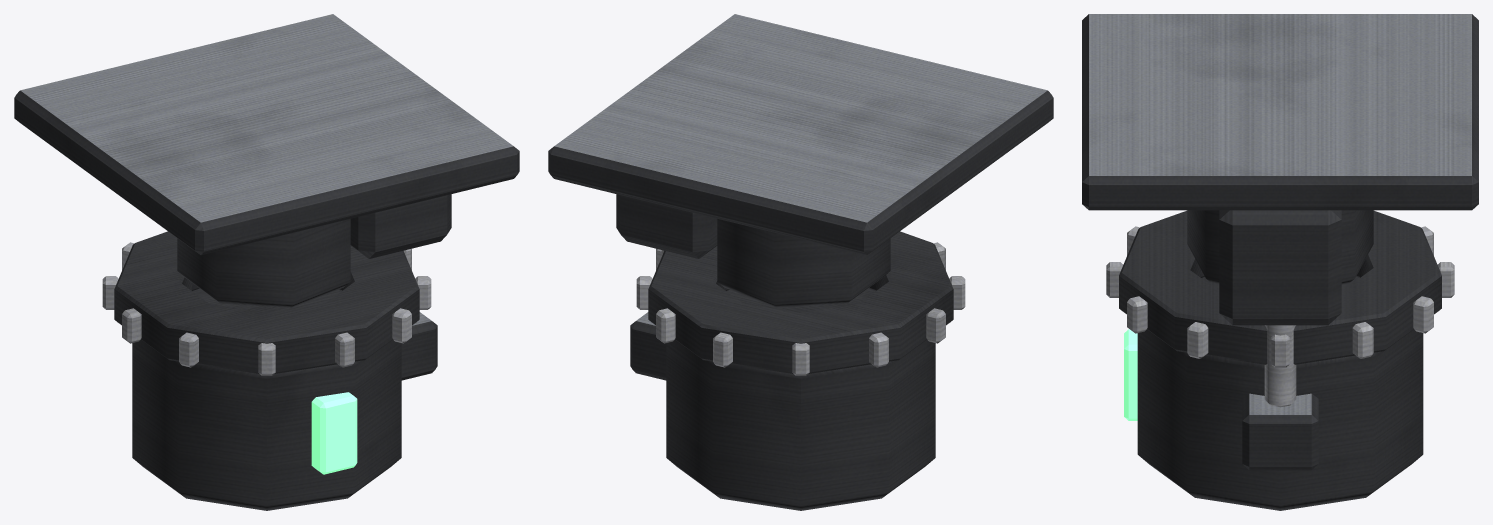
The model's file is R4X_IndependentSteering_LOD1.glb.
3 views of the same model, side by side, from view 1: azimuth 30°, elevation 25°; view 2: azimuth 150°, elevation 25°; view 3: azimuth 270°, elevation 25° (orthographic). The views are drawn at different scales.
Parts seen in each view (by area): view 1: R4X_IndependentSteering_LOD1; view 2: R4X_IndependentSteering_LOD1; view 3: R4X_IndependentSteering_LOD1.
Boxes of the visible parts, left/top/right/bottom form: R4X_IndependentSteering_LOD1: left=14, top=14, right=519, bottom=510; R4X_IndependentSteering_LOD1: left=548, top=14, right=1053, bottom=510; R4X_IndependentSteering_LOD1: left=1082, top=14, right=1478, bottom=510.
Bounding box in the file's own units: 0.52 × 0.52 × 0.52.
Materials: 4 (3 with a texture image).
